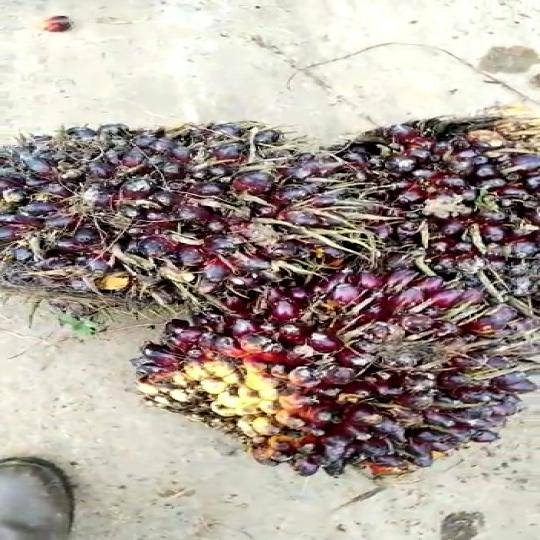kurang masak: (154, 254, 516, 488), (0, 116, 357, 306), (338, 93, 540, 269)
